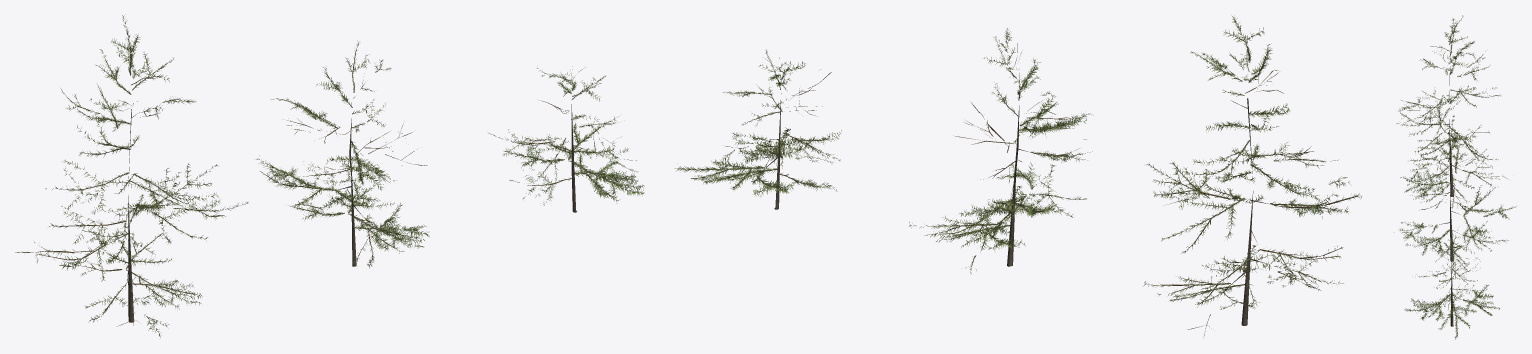
The model's file is fir-sapling-lod0.glb.
3 renders of one model, left to right at view 1: azimuth 30°, elevation 25°; view 2: azimuth 150°, elevation 25°; view 3: azimuth 270°, elevation 25°, orthographic. The views are drawn at different scales.
Parts seen in each view (by area): view 1: fir_sapling_a, fir_sapling_b, fir_sapling_c; view 2: fir_sapling_a, fir_sapling_b, fir_sapling_c; view 3: fir_sapling_a, fir_sapling_b, fir_sapling_c.
Boxes of the visible parts, left/top/right/bottom form: fir_sapling_a: left=15, top=15, right=248, bottom=337; fir_sapling_b: left=256, top=40, right=429, bottom=268; fir_sapling_c: left=488, top=66, right=644, bottom=212; fir_sapling_a: left=1143, top=16, right=1361, bottom=337; fir_sapling_b: left=909, top=28, right=1093, bottom=273; fir_sapling_c: left=674, top=49, right=841, bottom=209; fir_sapling_a: left=1397, top=15, right=1507, bottom=208; fir_sapling_b: left=1399, top=130, right=1516, bottom=273; fir_sapling_c: left=1404, top=229, right=1499, bottom=339.
Bounding box in the file's own units: 2.74 × 1.3 × 0.807.
2 materials, 2 textured.
